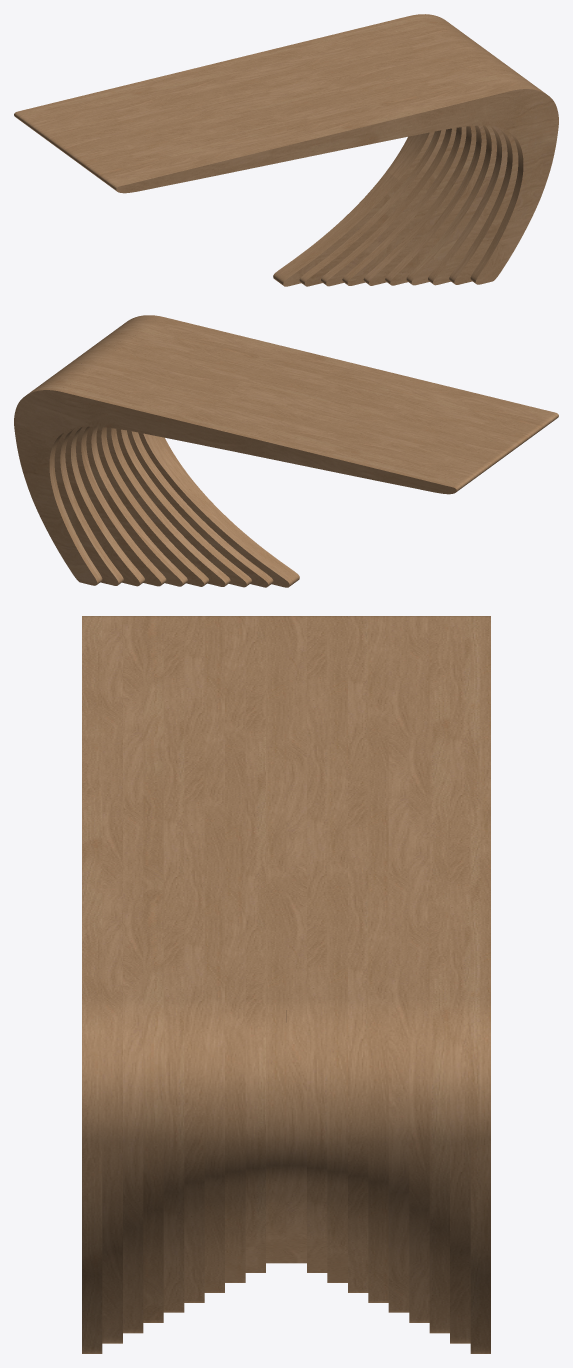
File: 4K - Woodbang Touchey coffee table - oak.obj
The picture shows the model from 3 angles, top to bottom: view 1: azimuth 30°, elevation 25°; view 2: azimuth 150°, elevation 25°; view 3: azimuth 270°, elevation 25°; orthographic projection. The views are drawn at different scales.
Bounding box in the file's own units: 99.96 × 40.13 × 40.
Materials: 1 (1 with a texture image).
